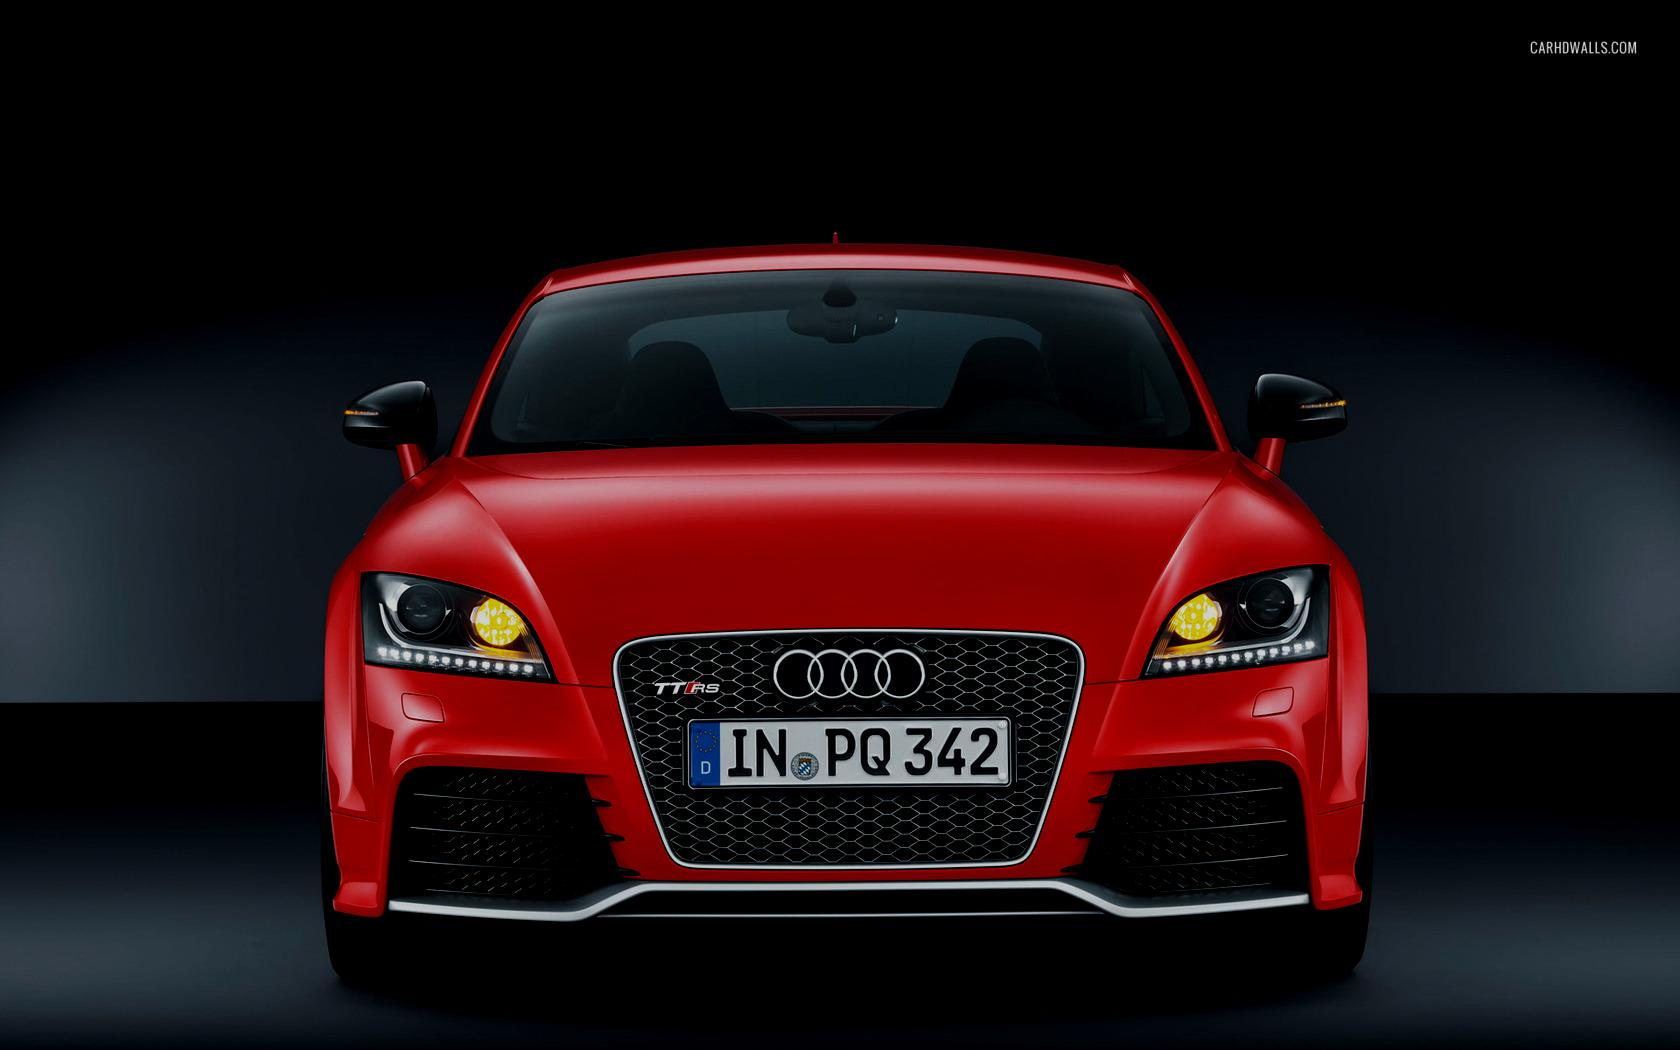Audi: (749, 625, 946, 714)
